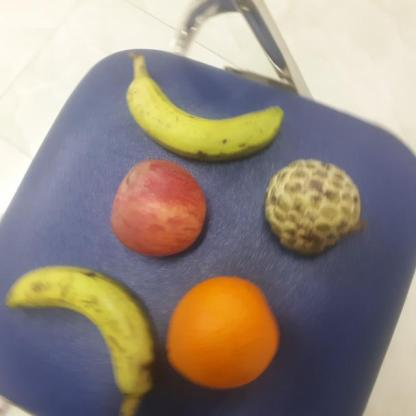annona: (264, 156, 366, 258)
apple: (107, 157, 210, 259)
banana: (6, 262, 158, 398), (125, 64, 286, 162)
orange: (162, 273, 282, 391)
